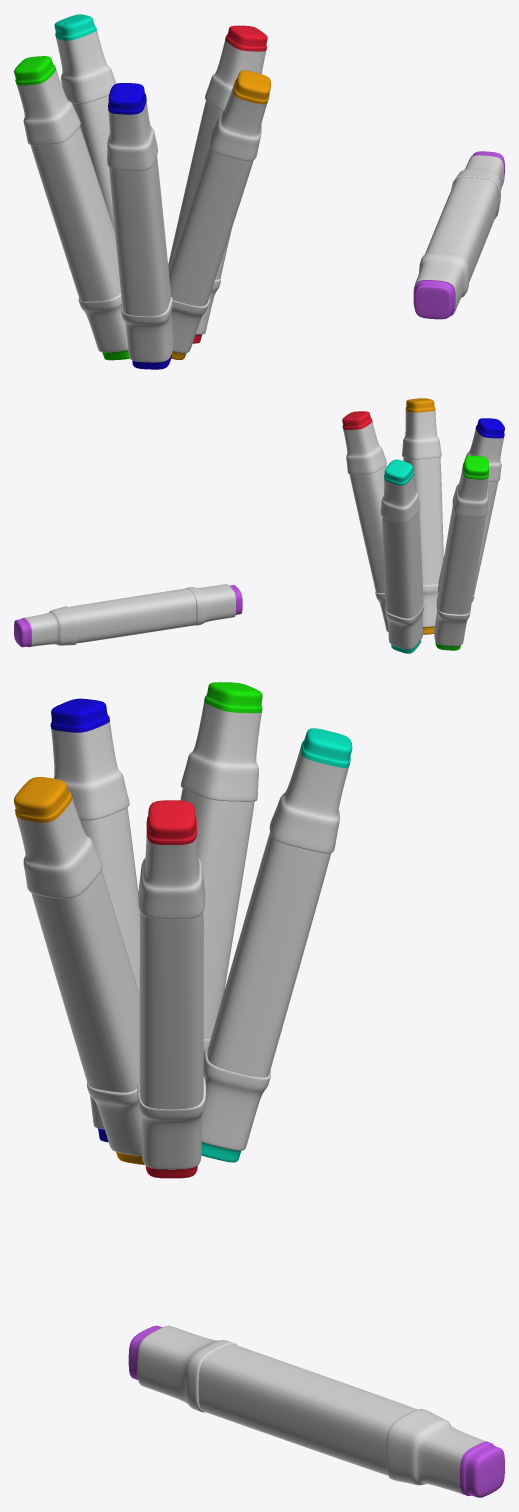
Rendered from NewPencils.fbx.
The picture shows the model from 3 angles, top to bottom: view 1: azimuth 30°, elevation 25°; view 2: azimuth 150°, elevation 25°; view 3: azimuth 270°, elevation 25°; orthographic projection. The views are drawn at different scales.
Visible parts, largest first — view 1: MarkerNoLid.005, MarkerNoLid.001, MarkerNoLid.004, MarkerNoLid.003, MarkerNoLid.008, MarkerNoLid.002, MarkerLid.008, MarkerLid.001, MarkerLid.005, MarkerLid.004, MarkerLid.002; view 2: MarkerNoLid.008, MarkerNoLid.003, MarkerNoLid.005, MarkerNoLid.004, MarkerNoLid.002, MarkerNoLid.001, MarkerLid.008, MarkerLid.003, MarkerLid.005, MarkerLid.004; view 3: MarkerNoLid.003, MarkerNoLid.008, MarkerNoLid.004, MarkerNoLid.002, MarkerNoLid.005, MarkerNoLid.001, MarkerLid.008, MarkerLid.003, MarkerLid.002, MarkerLid.004.
Part boxes in pixels (x1=…): MarkerNoLid.005: x1=14, y1=56, x2=120, y2=301; MarkerNoLid.001: x1=107, y1=83, x2=170, y2=316; MarkerNoLid.004: x1=168, y1=70, x2=270, y2=306; MarkerNoLid.003: x1=54, y1=14, x2=116, y2=231; MarkerNoLid.008: x1=425, y1=151, x2=504, y2=282; MarkerNoLid.002: x1=168, y1=25, x2=267, y2=279; MarkerLid.008: x1=413, y1=252, x2=469, y2=319; MarkerLid.001: x1=121, y1=297, x2=173, y2=369; MarkerLid.005: x1=78, y1=293, x2=129, y2=360; MarkerLid.004: x1=171, y1=295, x2=210, y2=359; MarkerLid.002: x1=168, y1=264, x2=220, y2=343; MarkerNoLid.008: x1=14, y1=588, x2=196, y2=647; MarkerNoLid.003: x1=380, y1=459, x2=423, y2=618; MarkerNoLid.005: x1=437, y1=455, x2=488, y2=614; MarkerNoLid.004: x1=402, y1=398, x2=443, y2=585; MarkerNoLid.002: x1=342, y1=411, x2=386, y2=593; MarkerNoLid.001: x1=438, y1=418, x2=504, y2=595; MarkerLid.008: x1=186, y1=584, x2=242, y2=625; MarkerLid.003: x1=385, y1=602, x2=424, y2=653; MarkerLid.005: x1=434, y1=597, x2=470, y2=650; MarkerLid.004: x1=422, y1=584, x2=438, y2=634; MarkerNoLid.003: x1=207, y1=728, x2=352, y2=1077; MarkerNoLid.008: x1=198, y1=1344, x2=504, y2=1497; MarkerNoLid.004: x1=14, y1=777, x2=139, y2=1092; MarkerNoLid.002: x1=138, y1=800, x2=205, y2=1109; MarkerNoLid.005: x1=180, y1=682, x2=262, y2=1039; MarkerNoLid.001: x1=50, y1=698, x2=139, y2=993; MarkerLid.008: x1=128, y1=1325, x2=236, y2=1412; MarkerLid.003: x1=201, y1=1048, x2=270, y2=1162; MarkerLid.002: x1=137, y1=1076, x2=205, y2=1178; MarkerLid.004: x1=87, y1=1082, x2=144, y2=1164.
Size of the model in its own units: 571 by 317 by 307.
